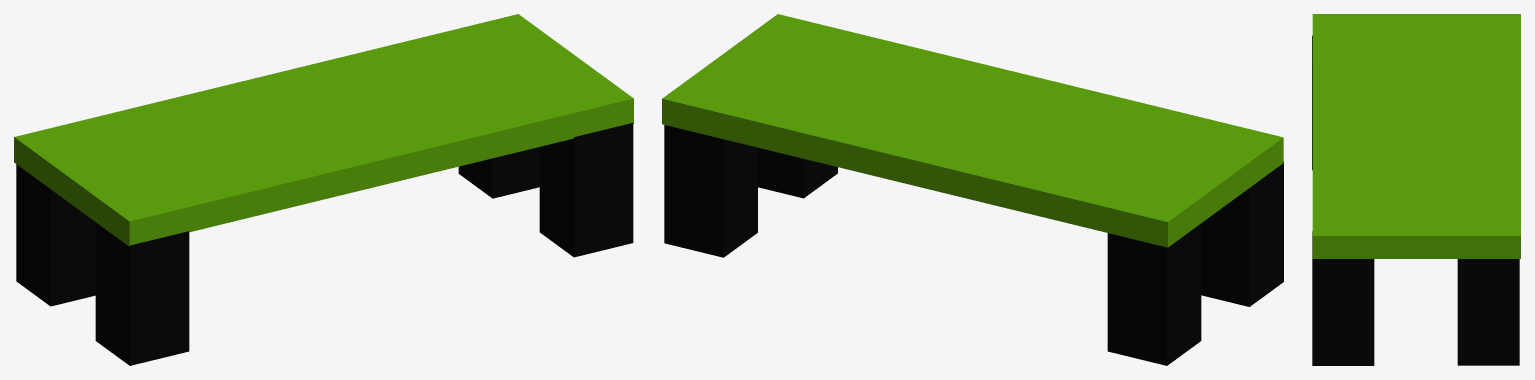
The model's file is banco-mesa.fbx.
The picture shows the model from 3 angles, left to right: view 1: azimuth 30°, elevation 25°; view 2: azimuth 150°, elevation 25°; view 3: azimuth 270°, elevation 25°; orthographic projection. The views are drawn at different scales.
Visible parts, largest first — view 1: pCube1, pasted__pasted__pasted__pCube2, pCube2, pasted__pasted__pCube2, pasted__pCube2; view 2: pCube1, pasted__pasted__pCube2, pasted__pCube2, pasted__pasted__pasted__pCube2, pCube2; view 3: pCube1, pCube2, pasted__pCube2.
Boxes of the visible parts, left/top/right/bottom form: pCube1: left=14, top=14, right=633, bottom=246; pasted__pasted__pasted__pCube2: left=95, top=222, right=189, bottom=365; pCube2: left=539, top=123, right=633, bottom=257; pasted__pasted__pCube2: left=16, top=164, right=95, bottom=306; pasted__pCube2: left=458, top=147, right=539, bottom=198; pCube1: left=662, top=14, right=1283, bottom=247; pasted__pasted__pCube2: left=1107, top=223, right=1201, bottom=365; pasted__pCube2: left=664, top=125, right=757, bottom=257; pasted__pasted__pasted__pCube2: left=1201, top=161, right=1283, bottom=306; pCube2: left=758, top=147, right=837, bottom=198; pCube1: left=1312, top=14, right=1520, bottom=258; pCube2: left=1312, top=231, right=1374, bottom=365; pasted__pCube2: left=1457, top=259, right=1519, bottom=365.
Size of the model in its own units: 8.5 by 2.32 by 3.38.
